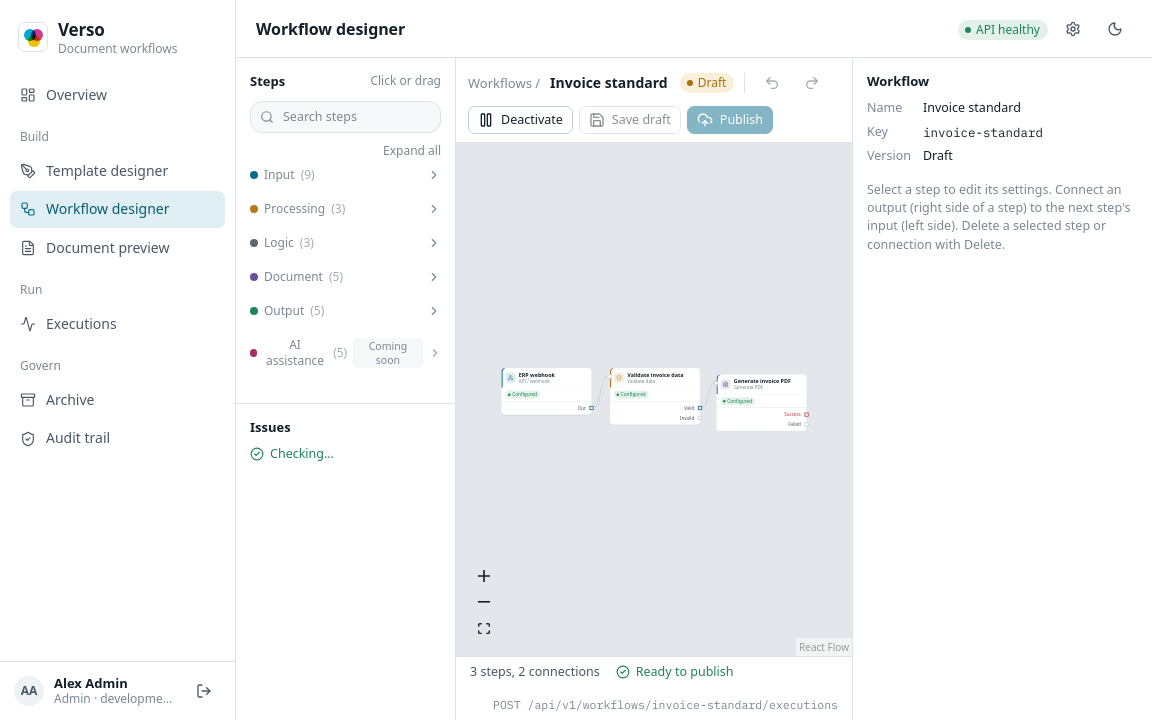
Test case: Workflow designer › lists the AI assistance steps as disabled previews that cannot be added
This screenshot has width=1152, height=720.
Expected: the element named "Workflow designer" is shown, [456,58,852,143]
Expected: the button "Extract fields" is not shown
Click the button "AI assistance (5) Coming soon". click: (346,353)
box: [250,337,441,369]
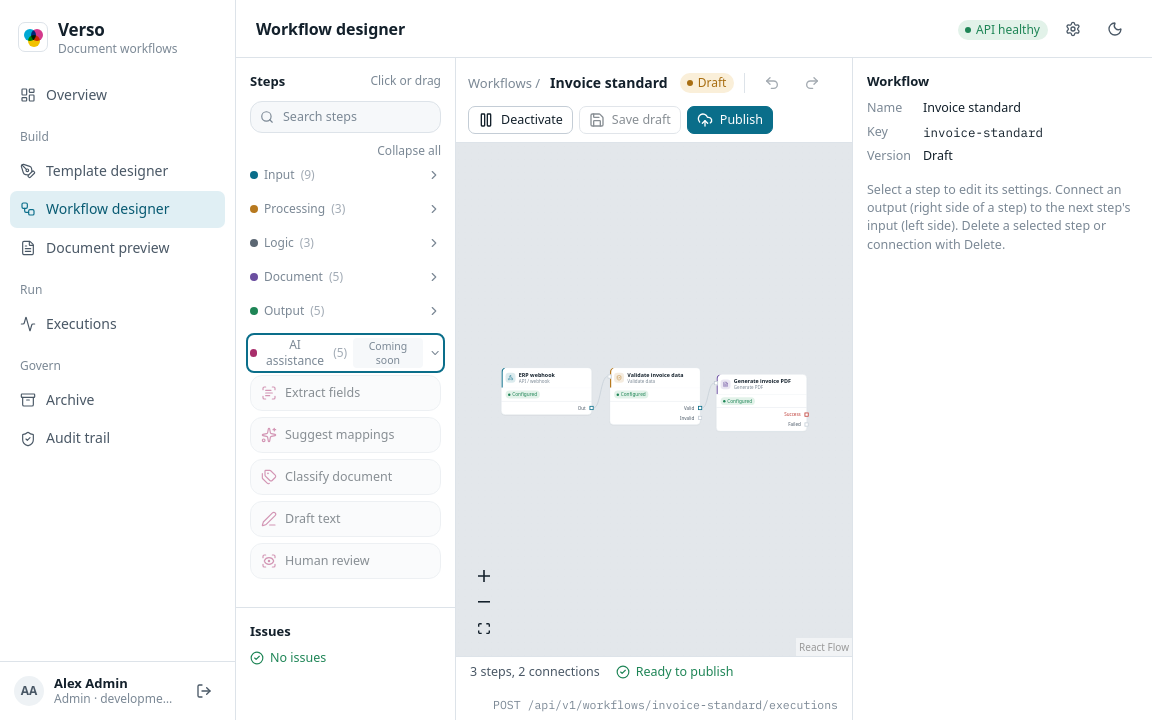
Expected: the button with aria-label "Classify document (coming soon)" is disabled, [250,459,441,495]
Type "classify" into the search field labelled "Search steps". click: (346,117)
box: [250,101,441,133]
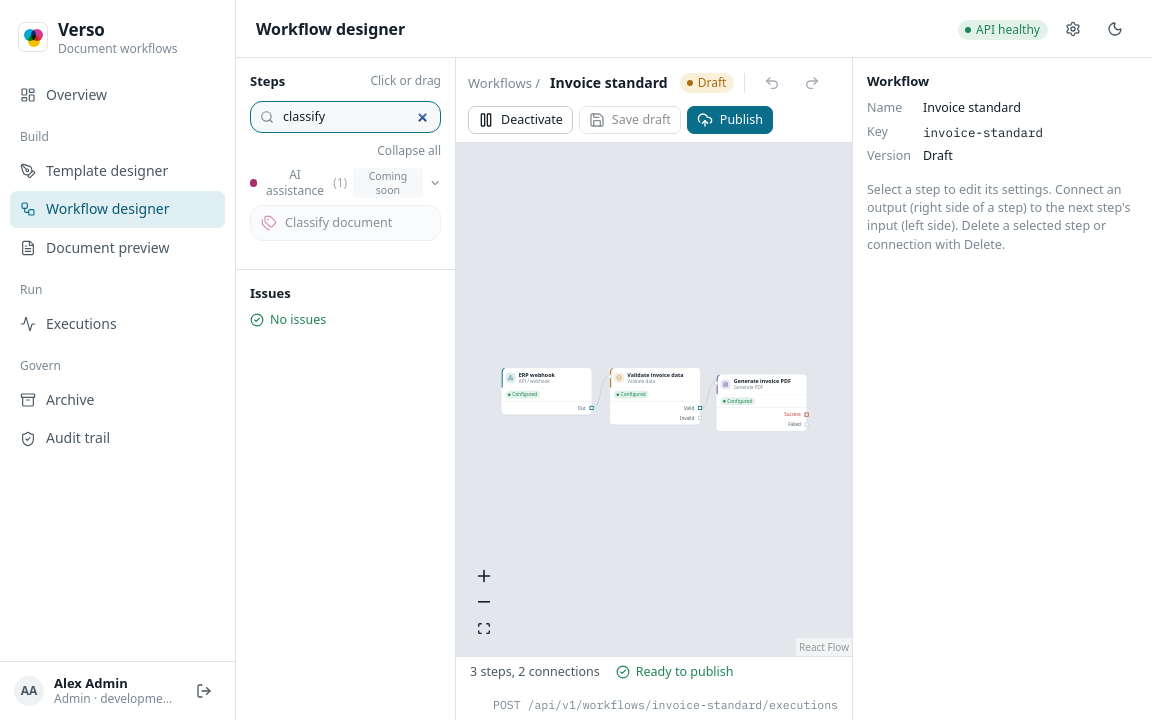
Expected: the button with aria-label "Classify document (coming soon)" is shown, [250,205,441,241]
Expected: the button "Draft text" is gone
